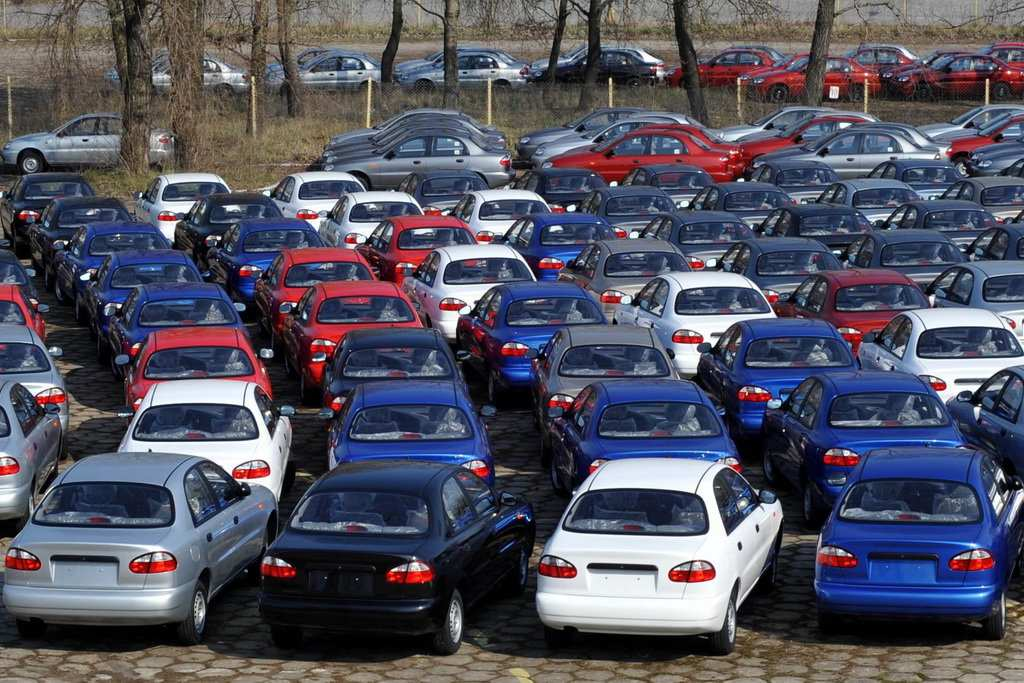Car: (259, 460, 537, 654), (0, 452, 280, 644), (535, 458, 784, 653), (813, 447, 1024, 639), (761, 368, 966, 525), (546, 379, 744, 497), (119, 380, 295, 499), (521, 326, 681, 447), (697, 317, 861, 430), (455, 281, 603, 405), (278, 281, 425, 404), (319, 376, 497, 477), (612, 271, 778, 374), (855, 307, 1024, 405), (79, 250, 210, 355), (774, 269, 932, 356), (114, 328, 273, 414), (400, 243, 537, 340), (250, 247, 376, 351), (309, 326, 463, 410), (53, 220, 171, 324), (321, 130, 516, 191), (205, 216, 325, 315), (558, 237, 691, 324), (103, 282, 245, 359), (540, 129, 735, 183), (25, 196, 135, 291), (0, 113, 174, 173), (0, 373, 64, 527), (747, 127, 941, 177), (704, 237, 843, 306), (944, 364, 1024, 481), (925, 260, 1024, 350), (354, 215, 480, 283), (173, 192, 284, 269), (0, 324, 71, 436), (500, 212, 618, 279), (629, 210, 757, 271), (0, 172, 96, 253), (839, 229, 963, 290), (529, 118, 676, 169), (321, 126, 505, 166), (133, 171, 233, 244), (513, 107, 650, 160), (322, 115, 507, 151), (749, 204, 874, 257), (740, 116, 867, 168), (316, 190, 425, 249), (262, 171, 368, 231), (746, 56, 881, 103), (566, 185, 679, 239), (892, 54, 1024, 100), (330, 108, 498, 144), (871, 200, 998, 247), (111, 56, 249, 97), (321, 119, 465, 158), (680, 181, 799, 228), (451, 189, 552, 244), (396, 52, 527, 93), (638, 125, 745, 175), (265, 50, 381, 94), (815, 179, 925, 225), (610, 164, 716, 211), (533, 48, 659, 87), (736, 111, 882, 144), (388, 169, 489, 216), (949, 115, 1024, 178), (736, 160, 843, 204), (928, 176, 1024, 225), (664, 48, 778, 89), (504, 168, 609, 212), (391, 47, 533, 79), (856, 160, 964, 200), (848, 122, 953, 161), (720, 106, 836, 141), (915, 104, 1024, 137), (879, 49, 978, 85), (423, 49, 531, 82), (739, 51, 832, 89), (930, 111, 1024, 142), (0, 284, 50, 340), (627, 111, 726, 139), (955, 223, 1024, 263), (531, 45, 617, 74), (966, 135, 1024, 178), (0, 249, 40, 302), (604, 47, 664, 80), (103, 52, 169, 82), (265, 47, 340, 73), (973, 144, 1024, 177), (696, 45, 786, 63), (847, 47, 914, 70), (979, 46, 1024, 70), (860, 44, 920, 60), (999, 156, 1024, 177), (977, 42, 1024, 53), (1003, 208, 1024, 224)
